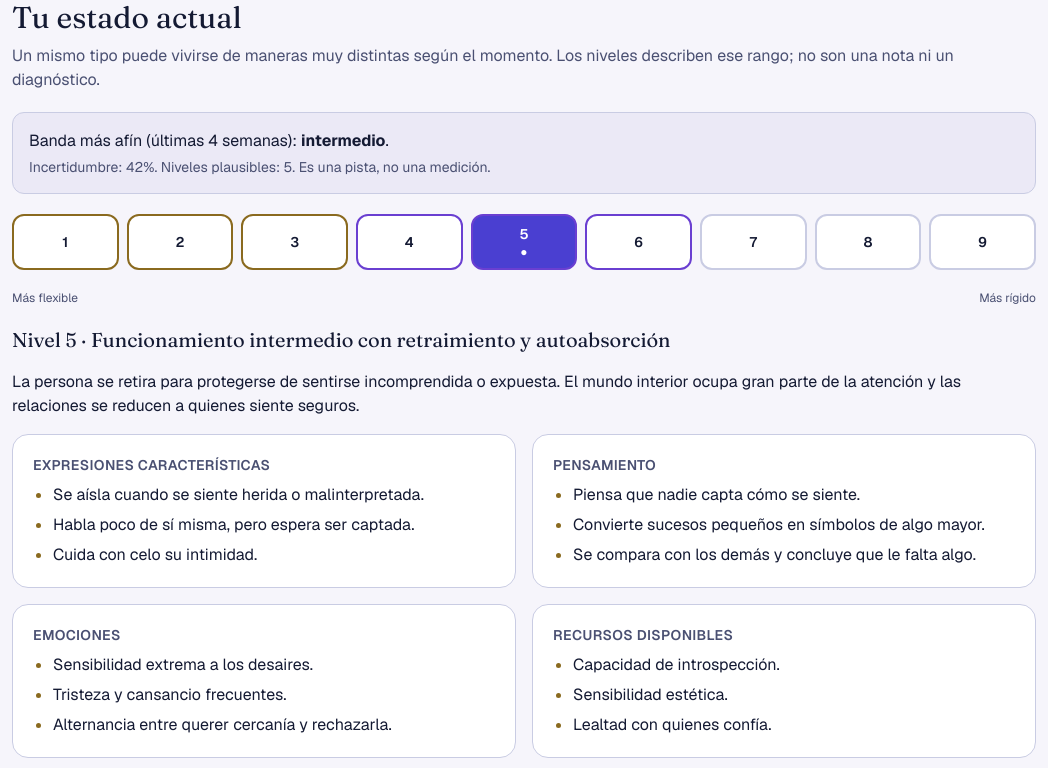
LevelsSection › shows nine selectable levels and the plausible ones from the band
Expected: the text "Banda más afín (últimas 4 semanas): intermedio." is shown, [29, 130, 389, 151]
Expected: the text "42%" is shown, [126, 158, 154, 176]
Click the button "1".
click(65, 242)  # box [12, 214, 119, 270]
(page scrolled)
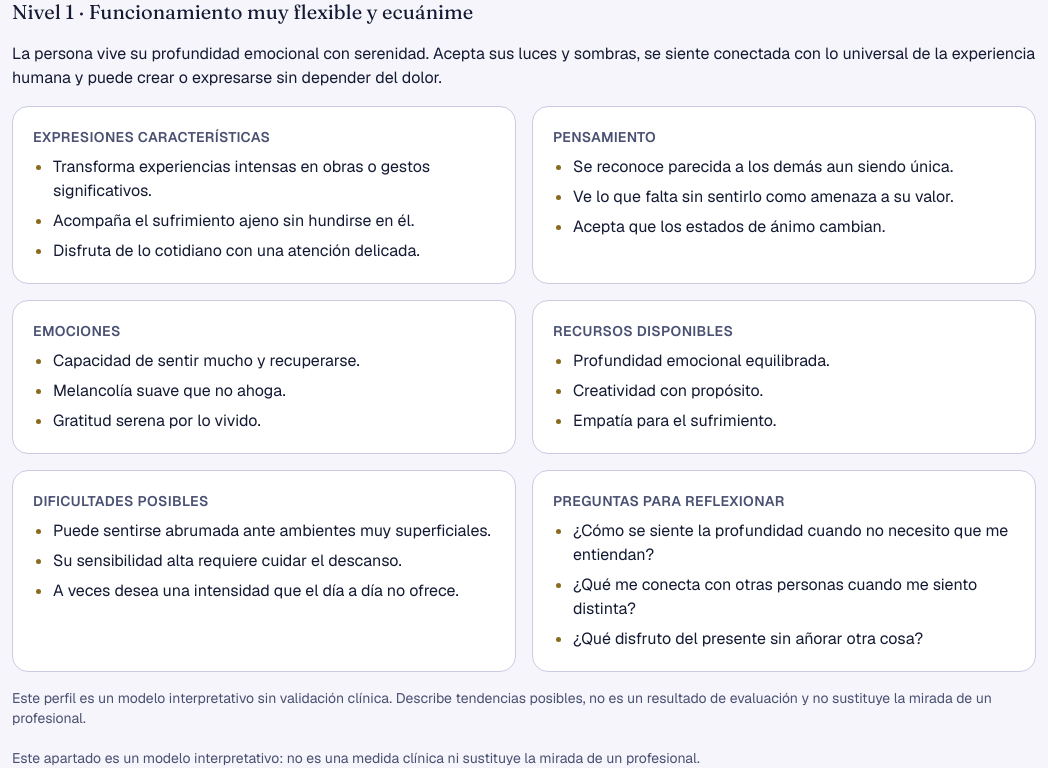
Expected: the text "Este perfil es un modelo interpretativo sin validación clínica. Describe tendencias posibles, no es un resultado de eval" is shown, [12, 689, 992, 727]
Expected: the text "La persona vive su profundidad emocional con serenidad. Acepta sus luces y sombras, se siente conectada con lo universal" is shown, [12, 43, 1035, 88]
